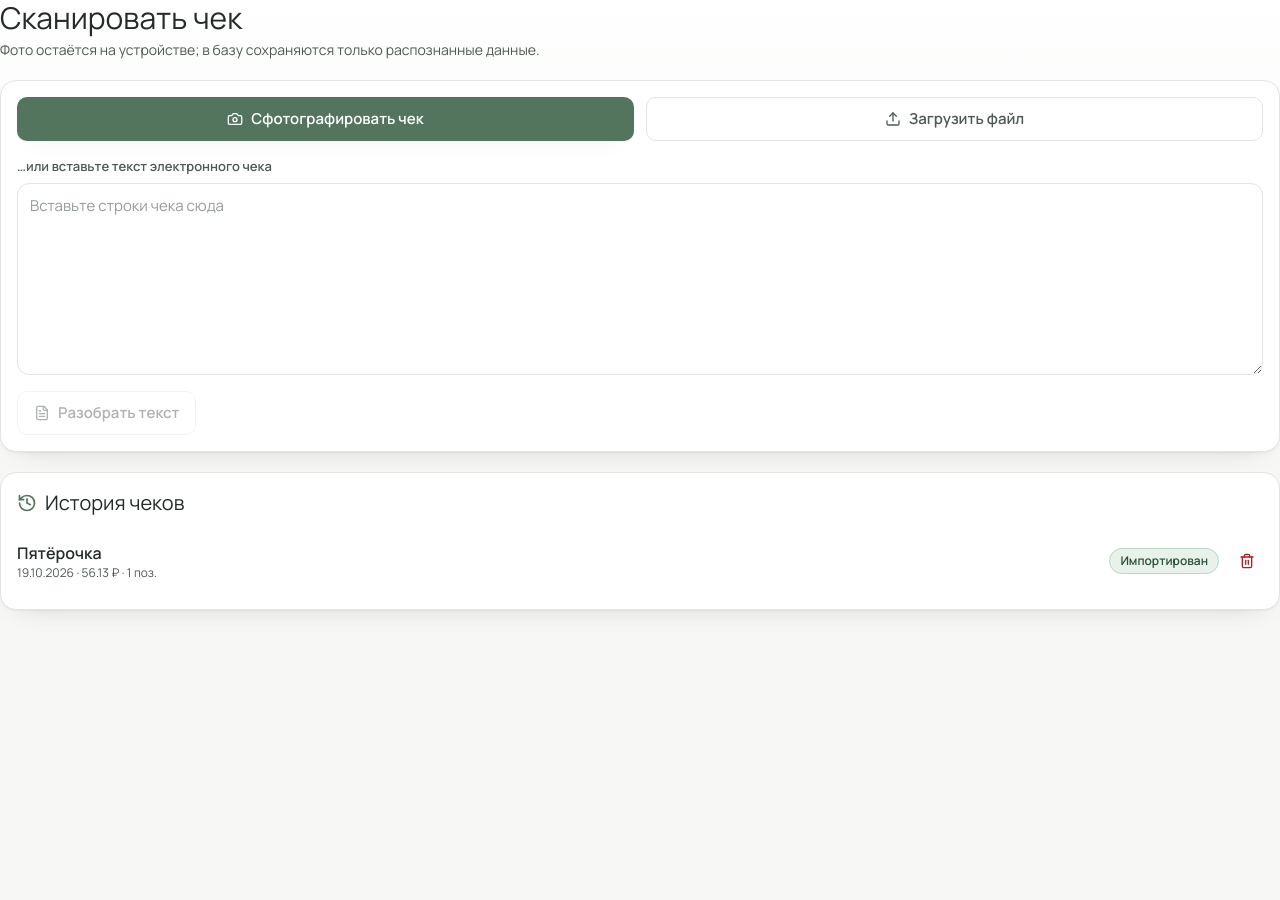
Test: экран сканирования чека › удаляет импортированный чек из истории после подтверждения
Click the button named "Удалить чек Пятёрочка".
click(1247, 561)  # box left=1231, top=545, right=1263, bottom=577
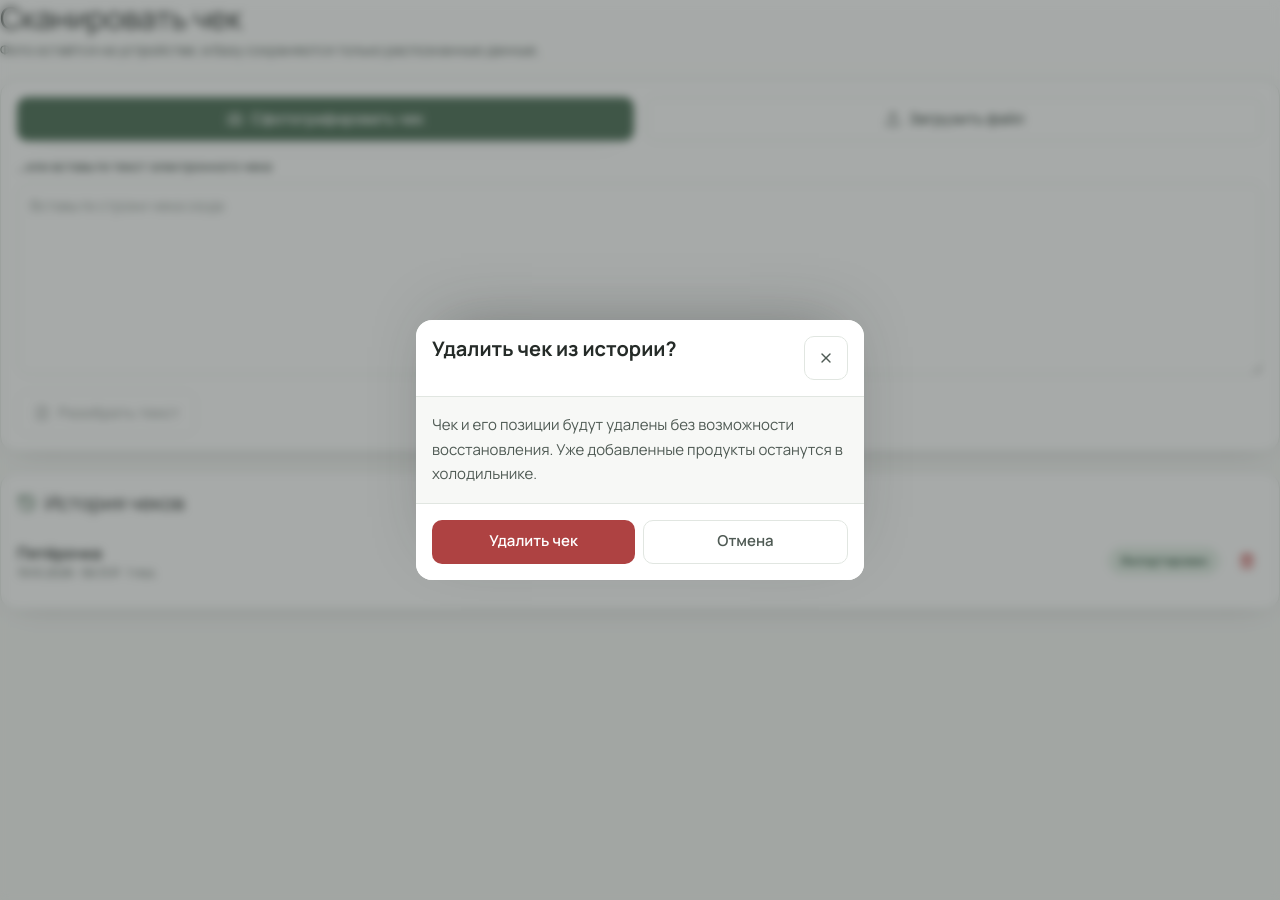
Click the button "Удалить чек".
click(534, 542)  # box left=432, top=520, right=635, bottom=564
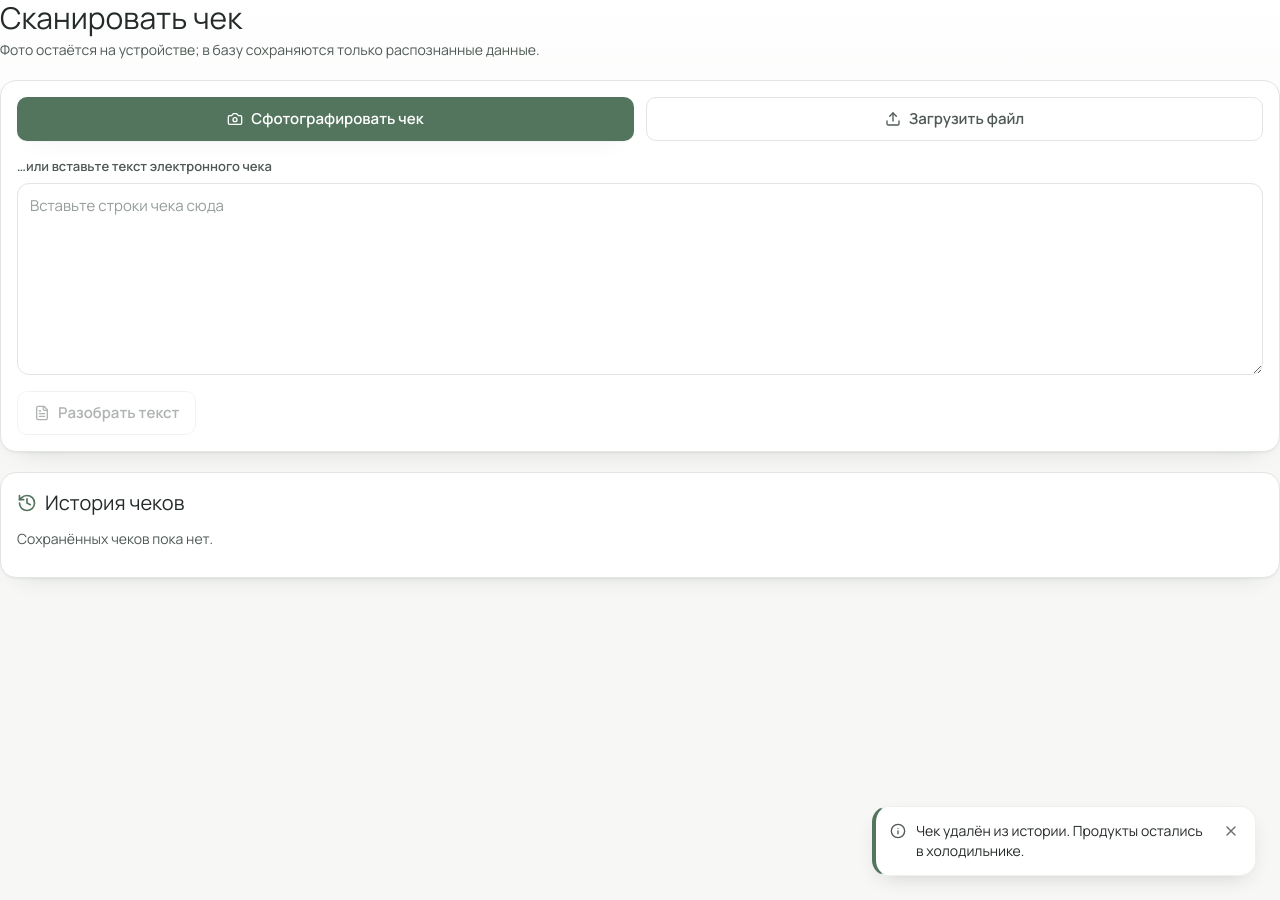
Check: the text "Импортирован" is gone
